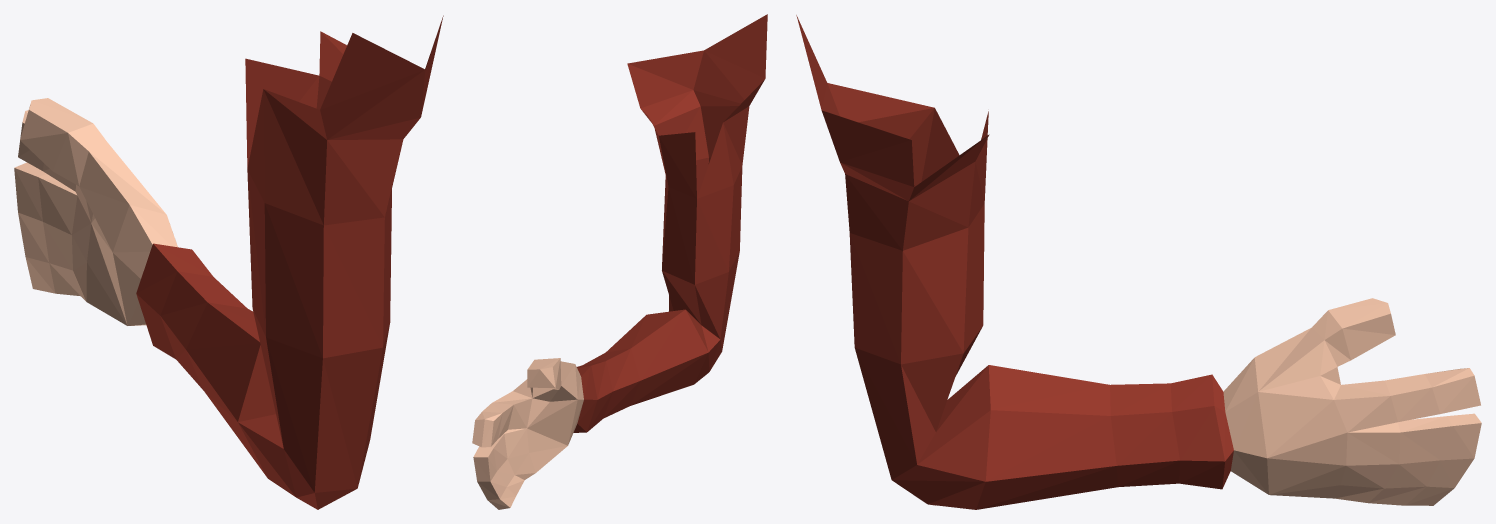
The model's file is Son_01_ArmR_93.obj.
The picture shows the model from 3 angles, left to right: view 1: azimuth 30°, elevation 25°; view 2: azimuth 150°, elevation 25°; view 3: azimuth 270°, elevation 25°; orthographic projection. The views are drawn at different scales.
Parts seen in each view (by area): view 1: Son_01_ArmR_93; view 2: Son_01_ArmR_93; view 3: Son_01_ArmR_93.
Part boxes in pixels (box(x1,y1,x2,y2)): Son_01_ArmR_93: box(14, 15, 443, 509); Son_01_ArmR_93: box(472, 14, 767, 509); Son_01_ArmR_93: box(796, 15, 1481, 509).
Size of the model in its own units: 0.1573 by 0.4706 by 0.6194.
1 material, 1 textured.
